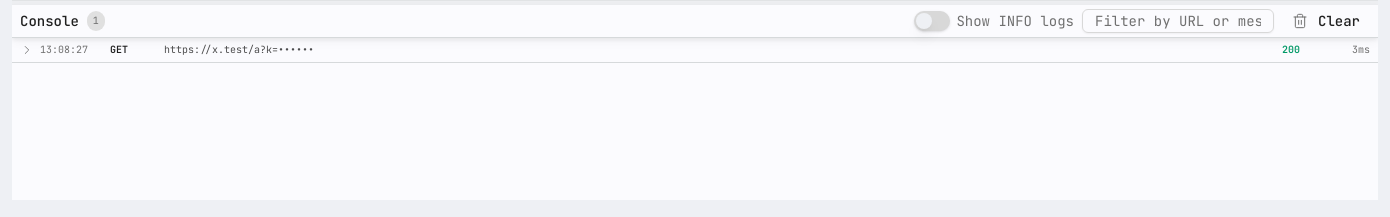
it: ConsolePanel masking › shows the note and no toggle for an uncertain row
Click the text "https://x.test/a?k=••••••" at (239, 50), box 164,43 -> 314,56
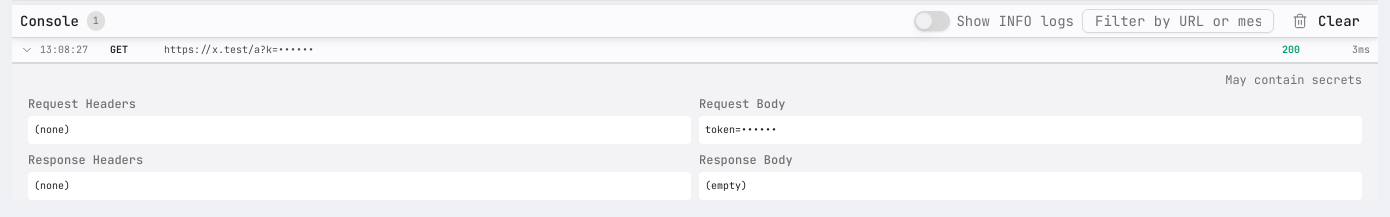
Result: the text "May contain secrets" is shown at 1225,72 -> 1362,88
